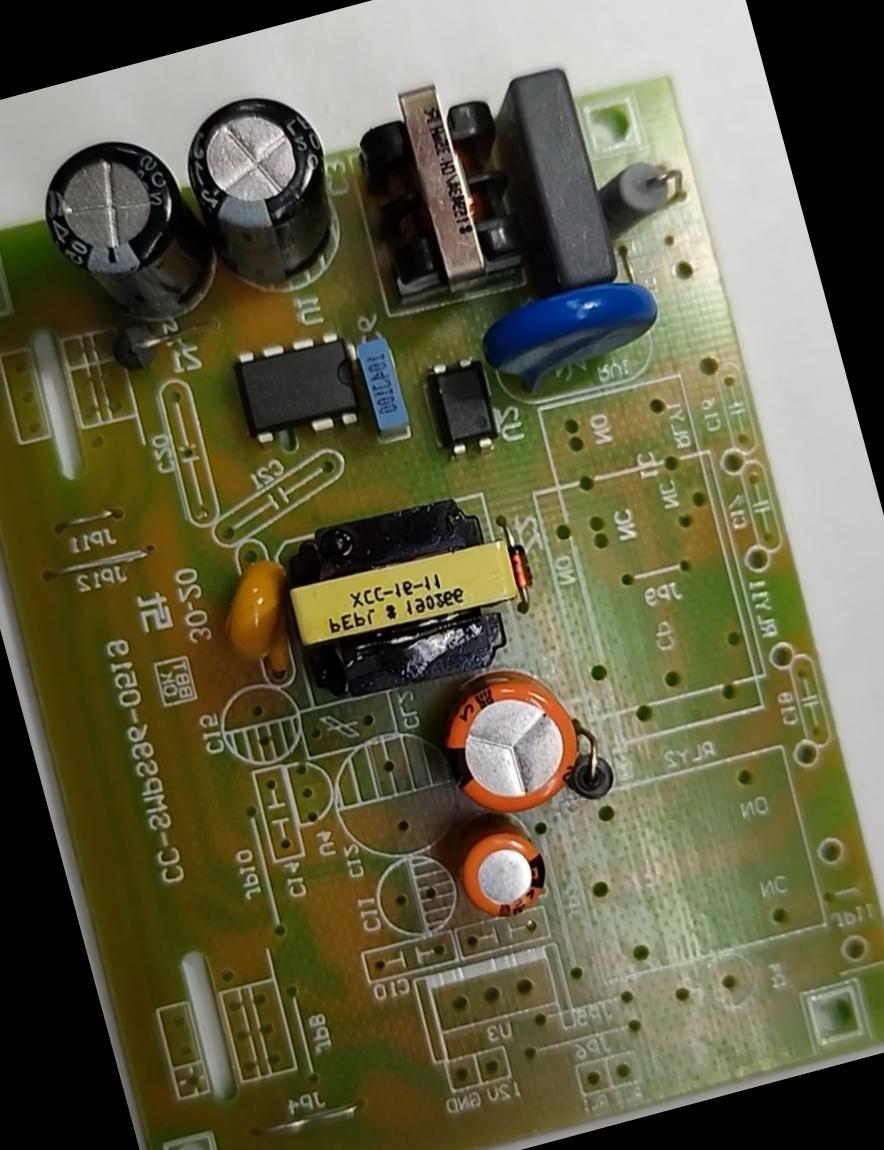Cap1: (411, 644, 603, 832)
Cap2: (419, 792, 564, 940)
Cap3: (157, 62, 374, 325)
Cap4: (13, 103, 239, 370)
MOSFET: (214, 308, 378, 461)
Mov: (445, 256, 683, 422)
Resistor: (576, 139, 696, 252)
Transformer: (259, 474, 549, 715), (326, 60, 548, 320)
